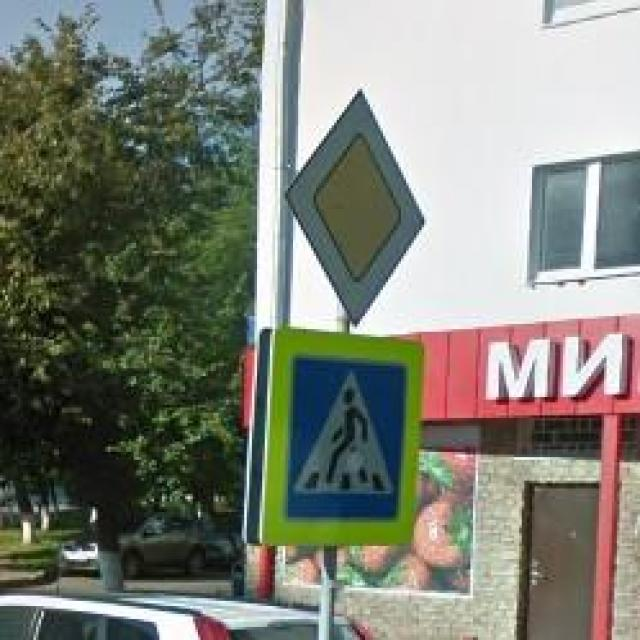Droga z pierwszenstwem: (285, 86, 427, 329)
Przejscie dla pieszych: (257, 327, 424, 551)
